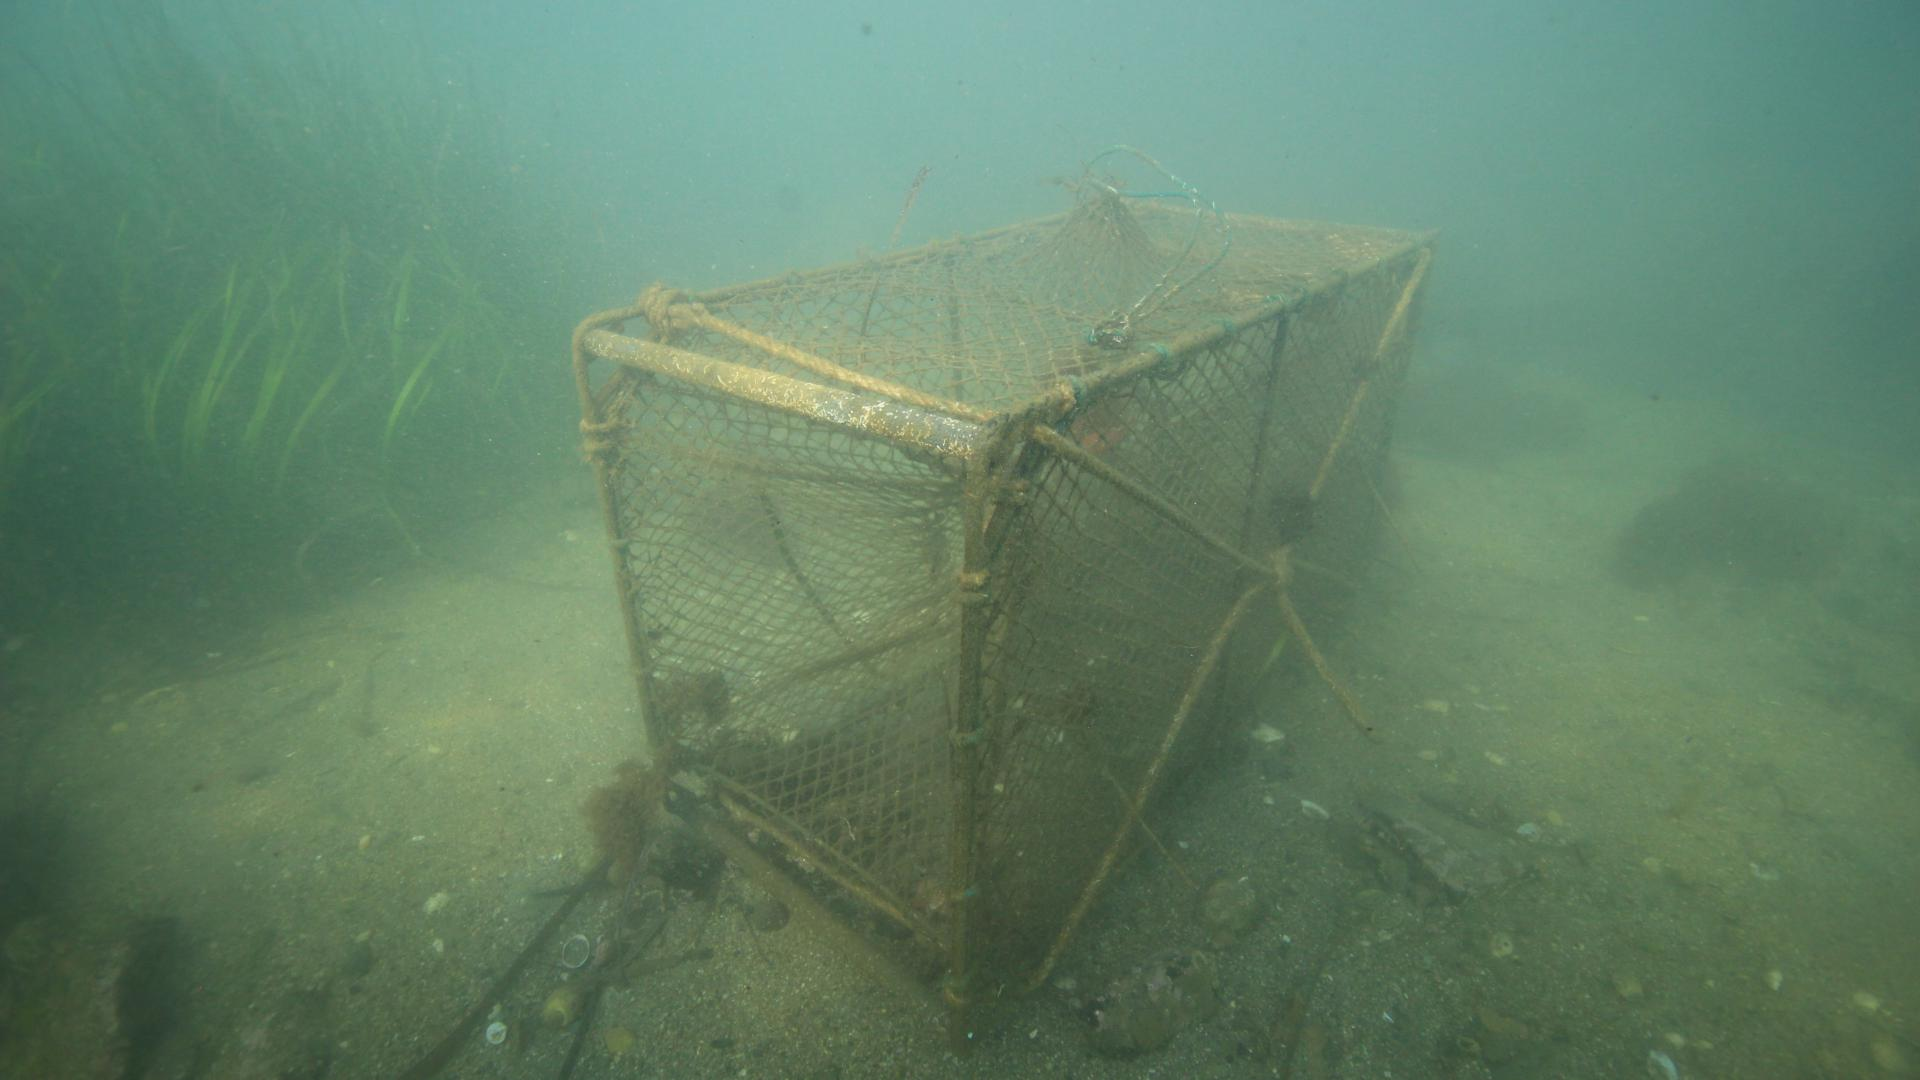rectangular fish trap: (567, 191, 1440, 1043)
